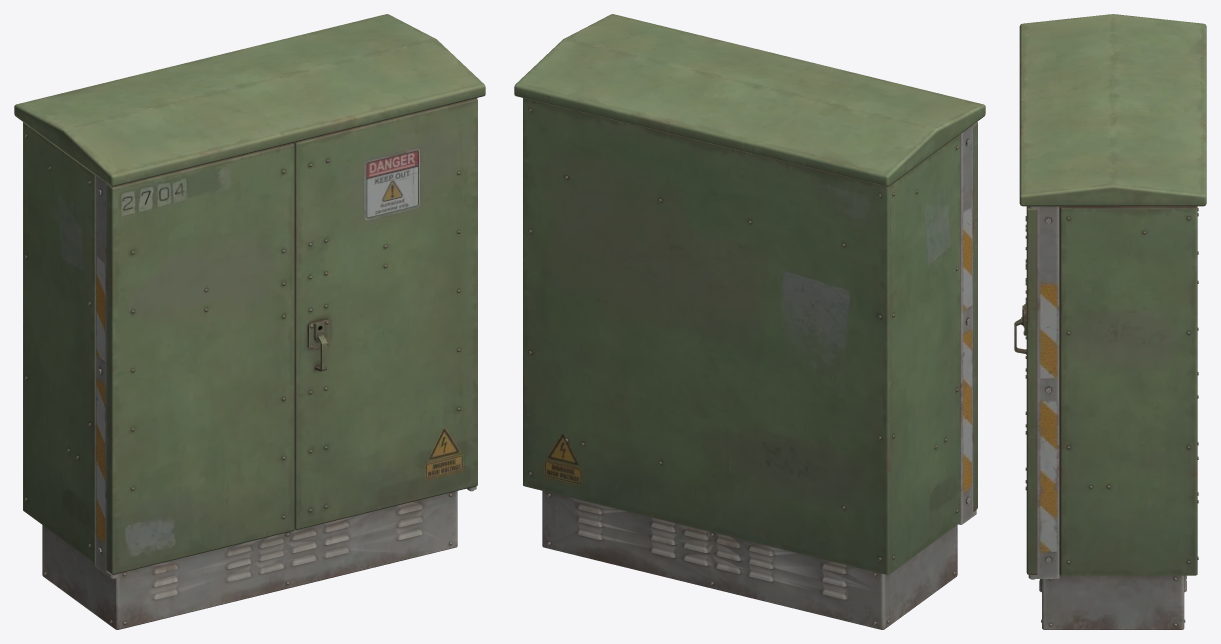
File: utility_box_02.glb
3 renders of one model, left to right at view 1: azimuth 30°, elevation 25°; view 2: azimuth 150°, elevation 25°; view 3: azimuth 270°, elevation 25°, orthographic. The views are drawn at different scales.
Parts seen in each view (by area): view 1: utility_box_02; view 2: utility_box_02; view 3: utility_box_02.
Part boxes in pixels (box(x1,y1,x2,y2)): utility_box_02: box(14, 14, 485, 629); utility_box_02: box(514, 14, 985, 629); utility_box_02: box(1014, 14, 1206, 629).
Bounding box in the file's own units: 0.92 × 1.12 × 0.432.
Materials: 1 (1 with a texture image).
